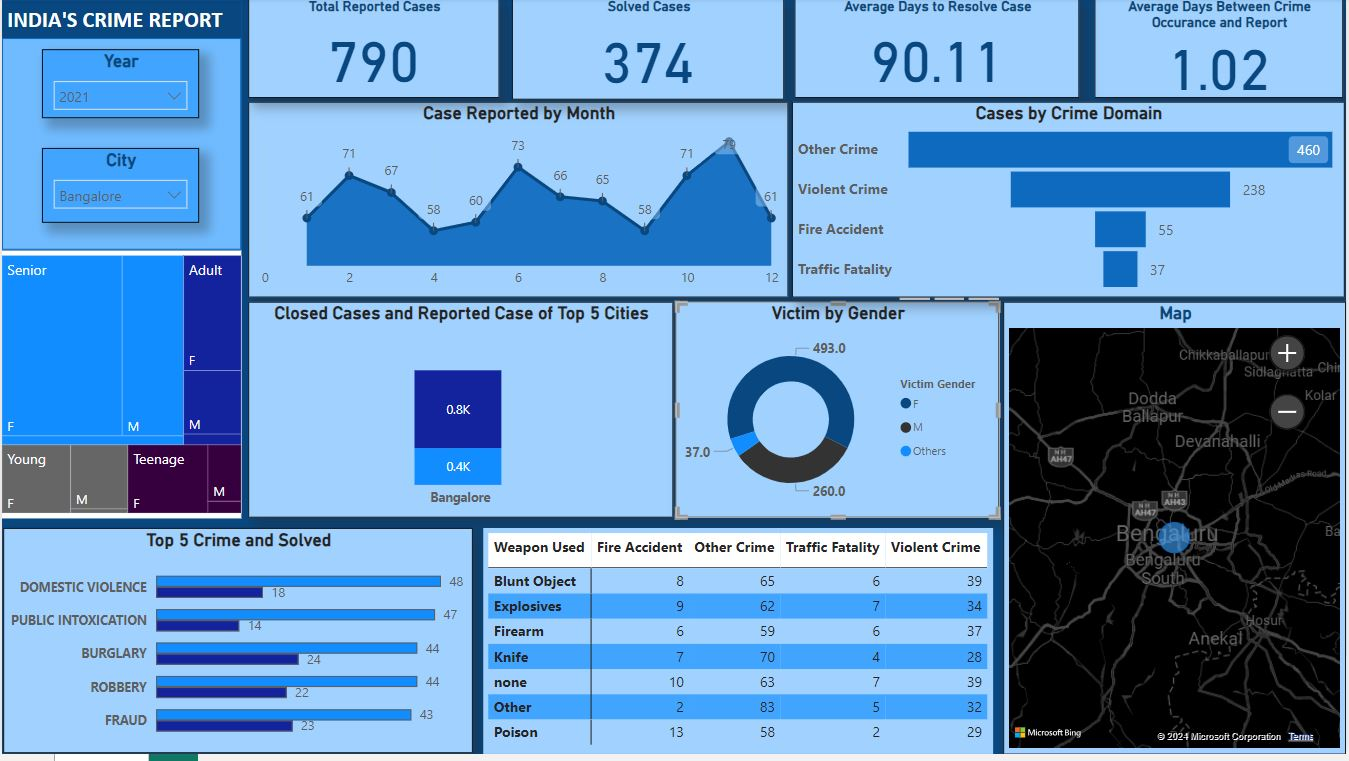

This screenshot's page, from the dashboard's own definition file:
{"tool":"powerbi","page":{"name":"Page 1","canvas":[1280,720],"ordinal":0},"visuals":[{"type":"lineChart","title":"Case Reported by Month","fields":{"Category":["india_crime.Month of occurance"],"Y":["CountNonNull(india_crime.Report Number)"]},"box":[234.6,98.8,514.6,186.6],"z":0},{"type":"card","title":"Total Reported Cases","fields":{"Values":["Count(india_crime.Report Number)"]},"box":[234.5,0,239.3,95.2],"z":1000},{"type":"card","title":"Solved Cases","fields":{"Values":["CountNonNull(india_crime.Case Closed)"]},"box":[485.7,0,259.5,96.4],"z":2000},{"type":"columnChart","title":"Closed Cases and Reported Case of Top 5 Cities","fields":{"Category":["india_crime.City"],"Y":["CountNonNull(india_crime.Date Case Closed)","Count(india_crime.Report Number)"]},"box":[234.6,289.5,404.8,205.8],"z":3000},{"type":"card","title":"Average Days Between Crime Occurance and Report","fields":{"Values":["Avg(india_crime.Days bw occ/report)"]},"box":[1040.5,0,236.9,95.2],"z":4000},{"type":"donutChart","title":"Victim by Gender","fields":{"Category":["india_crime.Victim Gender"],"Y":["CountNonNull(india_crime.Report Number)"]},"box":[642.2,289.5,308,205.8],"z":5000},{"type":"card","title":"Average Days to Resolve Case ","fields":{"Values":["Avg(india_crime.Resolved Duration)"]},"box":[754.8,0,271.4,95.2],"z":6000},{"type":"clusteredBarChart","title":"Top 5 Crime and Solved","fields":{"Category":["india_crime.Crime Description"],"Y":["Count(india_crime.Report Number)","CountNonNull(india_crime.Date Case Closed)"]},"box":[1.4,505,447.3,214.1],"z":7000},{"type":"funnel","title":"Cases by Crime Domain","fields":{"Category":["india_crime.Crime Domain"],"Y":["Count(india_crime.Report Number)"]},"box":[753.6,97.6,525,186.9],"z":8000},{"type":"treemap","fields":{"Group":["india_crime.Age Group"],"Values":["Count(india_crime.Report Number)"],"Details":["india_crime.Victim Gender"]},"box":[0,240.1,227.8,255.2],"z":9000},{"type":"textbox","title":"INDIA''S CRIME REPORT","box":[0,2.7,227.8,35.7],"z":10000},{"type":"map","title":"Map ","fields":{"Category":["india_crime.City"],"Size":["Count(india_crime.Report Number)"],"Y":["Avg(india_crime.Latitude)"],"X":["Avg(india_crime.Longitude)"]},"box":[953.7,289.5,326.6,430.9],"z":11000},{"type":"shape","box":[0,38.4,227.8,201.7],"z":12000},{"type":"slicer","title":"Year","fields":{"Values":["india_crime.Year of occurance"]},"box":[38.4,49.4,149.6,65.9],"z":13000},{"type":"slicer","title":"City","fields":{"Values":["india_crime.City"]},"box":[38.4,142.7,149.6,71.4],"z":14000},{"type":"pivotTable","fields":{"Rows":["india_crime.Weapon Used"],"Values":["Count(india_crime.Report Number)"],"Columns":["india_crime.Crime Domain"]},"box":[458.3,505,485.8,215.4],"z":15000}]}

Visuals, with their boxes in screenshot pixels (x1, y1, x2, y2), scaled from the page's 1280x720 canvas onto the 1349x761 screenshot:
"Case Reported by Month" lineChart: 247/104/790/302
"Total Reported Cases" card: 247/0/499/101
"Solved Cases" card: 512/0/785/102
"Closed Cases and Reported Case of Top 5 Cities" columnChart: 247/306/674/524
"Average Days Between Crime Occurance and Report" card: 1097/0/1346/101
"Victim by Gender" donutChart: 677/306/1001/524
"Average Days to Resolve Case " card: 795/0/1082/101
"Top 5 Crime and Solved" clusteredBarChart: 1/534/473/760
"Cases by Crime Domain" funnel: 794/103/1348/301
treemap - india_crime.Age Group x Count(india_crime.Report Number): 0/254/240/524
"INDIA''S CRIME REPORT" textbox: 0/3/240/41
"Map " map: 1005/306/1348/760
shape: 0/41/240/254
"Year" slicer: 40/52/198/122
"City" slicer: 40/151/198/226
pivotTable - india_crime.Weapon Used x Count(india_crime.Report Number): 483/534/995/760
